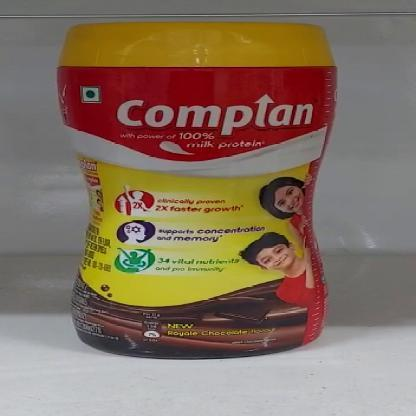Complan Royal Chocolate: (59, 22, 337, 360)
